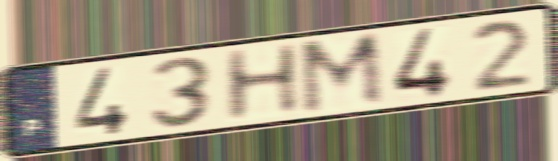2: (467, 17, 534, 95)
3: (147, 54, 217, 131)
4: (390, 24, 455, 101), (73, 64, 130, 137)
H: (219, 40, 304, 126)
M: (295, 29, 387, 118)
